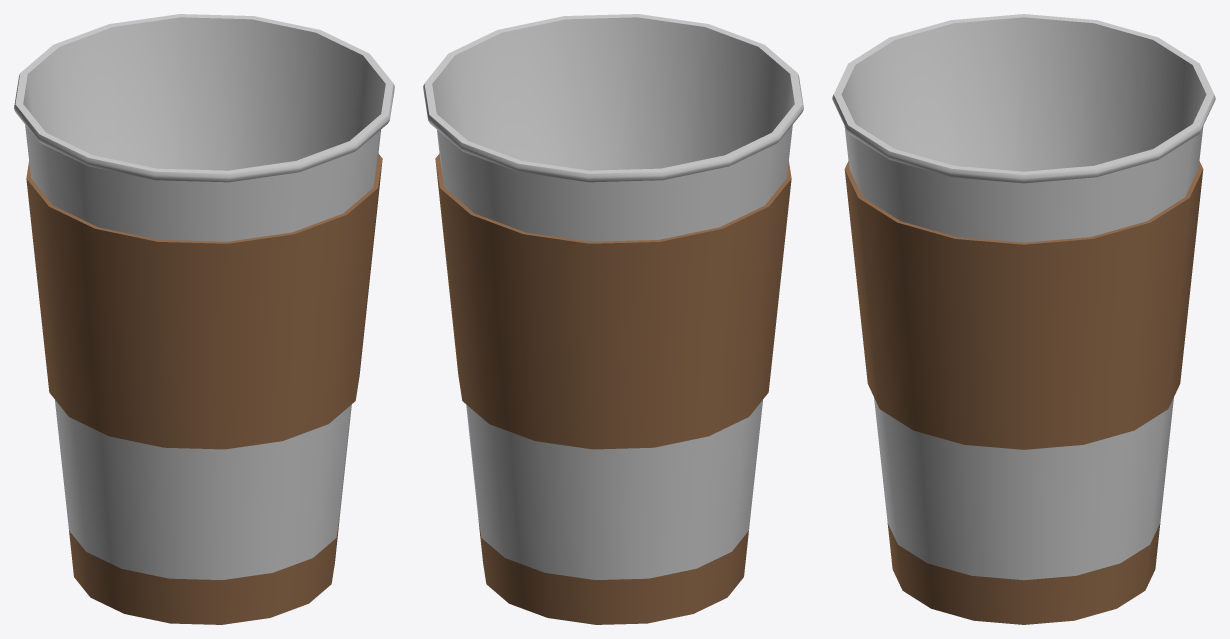
File: coffee_cup_empty.fbx
The picture shows the model from 3 angles, left to right: view 1: azimuth 30°, elevation 25°; view 2: azimuth 150°, elevation 25°; view 3: azimuth 270°, elevation 25°; orthographic projection.
Parts seen in each view (by area): view 1: CoffeeCup; view 2: CoffeeCup; view 3: CoffeeCup.
Boxes of the visible parts, <box> form: CoffeeCup: <box>14,14,394,624</box>; CoffeeCup: <box>423,14,803,624</box>; CoffeeCup: <box>832,14,1215,624</box>.
Size of the model in its own units: 45.49 by 62.2 by 45.49.
